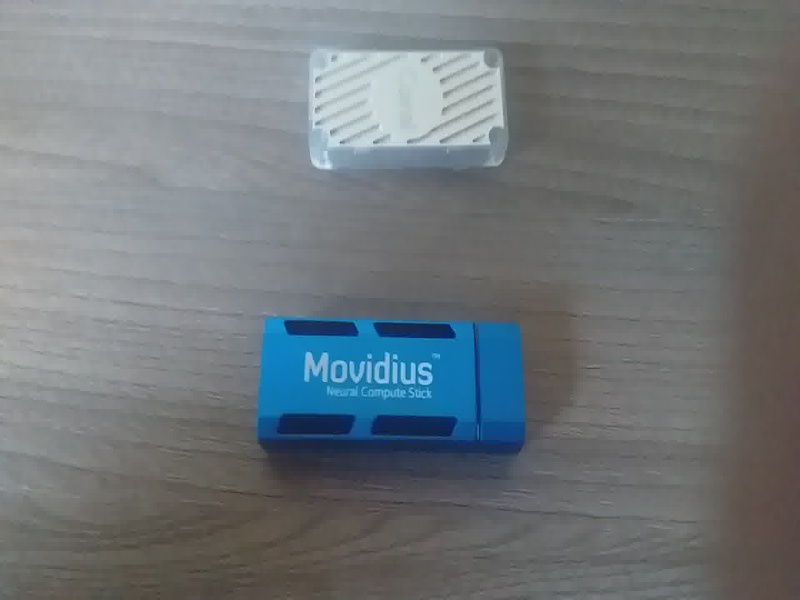coral: (299, 33, 519, 190)
movidius: (248, 294, 548, 463)
